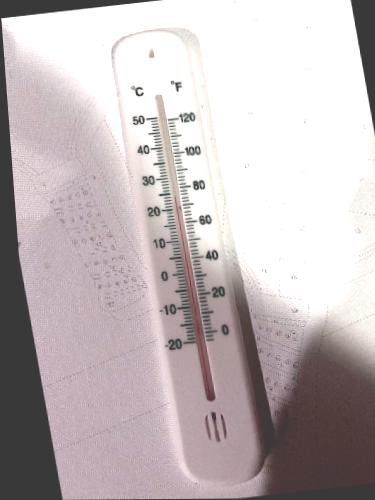thermo: (110, 25, 271, 485)
